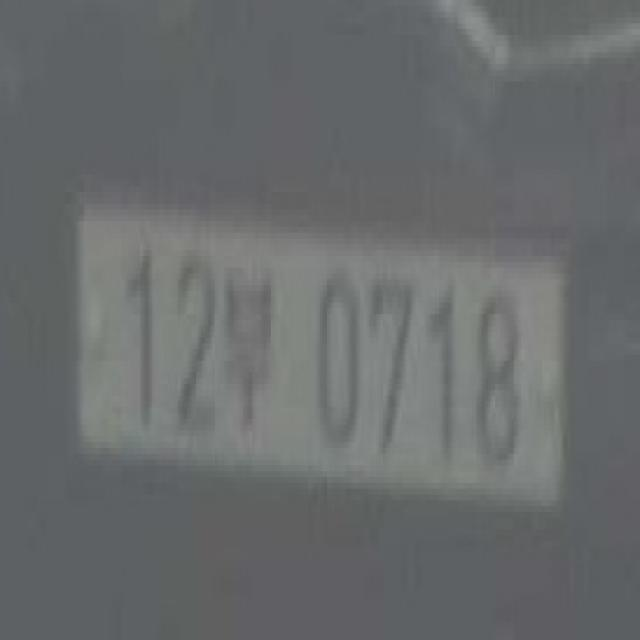0: (313, 262, 364, 477)
1: (115, 233, 168, 442), (423, 256, 469, 483)
2: (166, 250, 222, 454)
7: (367, 256, 420, 454)
8: (474, 285, 523, 477)
bu: (218, 262, 288, 454)
license_plate: (70, 215, 582, 500)
